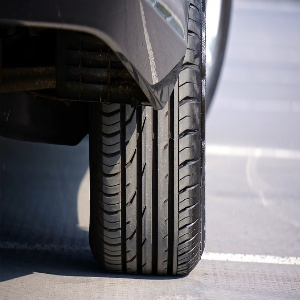train: (87, 1, 210, 281)
